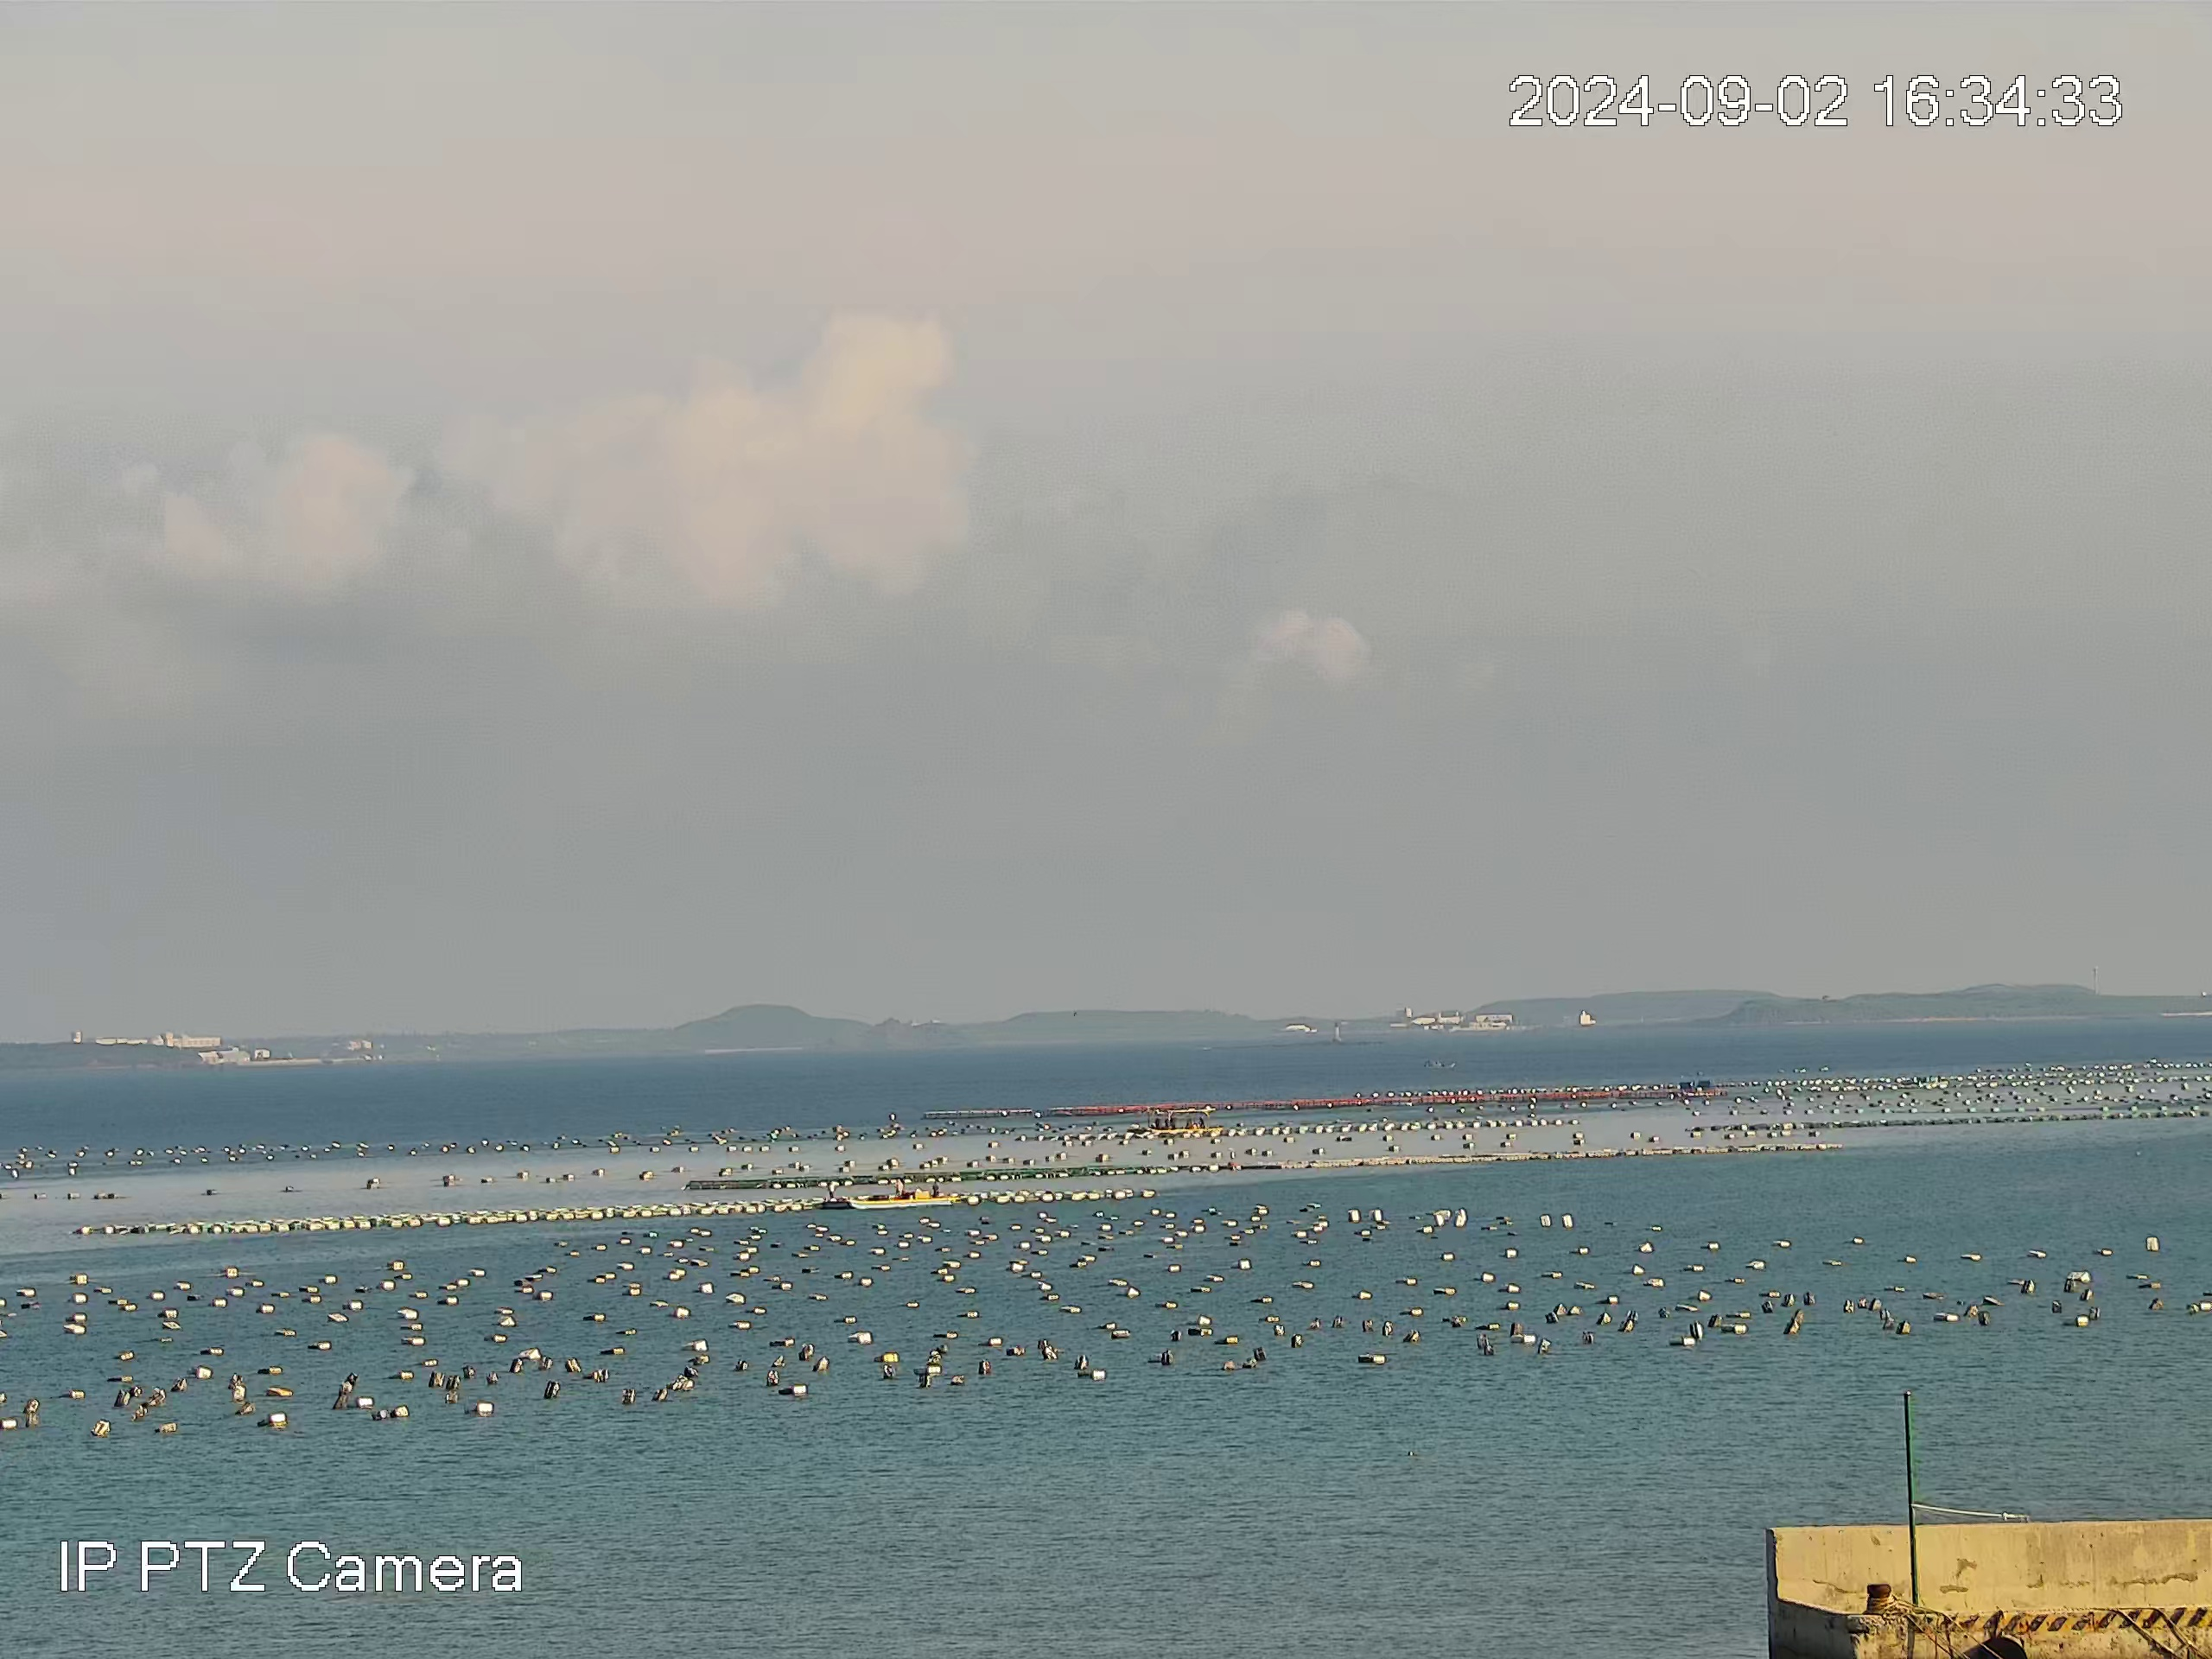boat: (846, 1176, 960, 1211), (1144, 1105, 1226, 1133)
